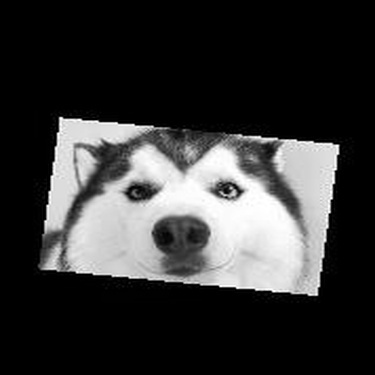dog: (47, 116, 311, 301)
